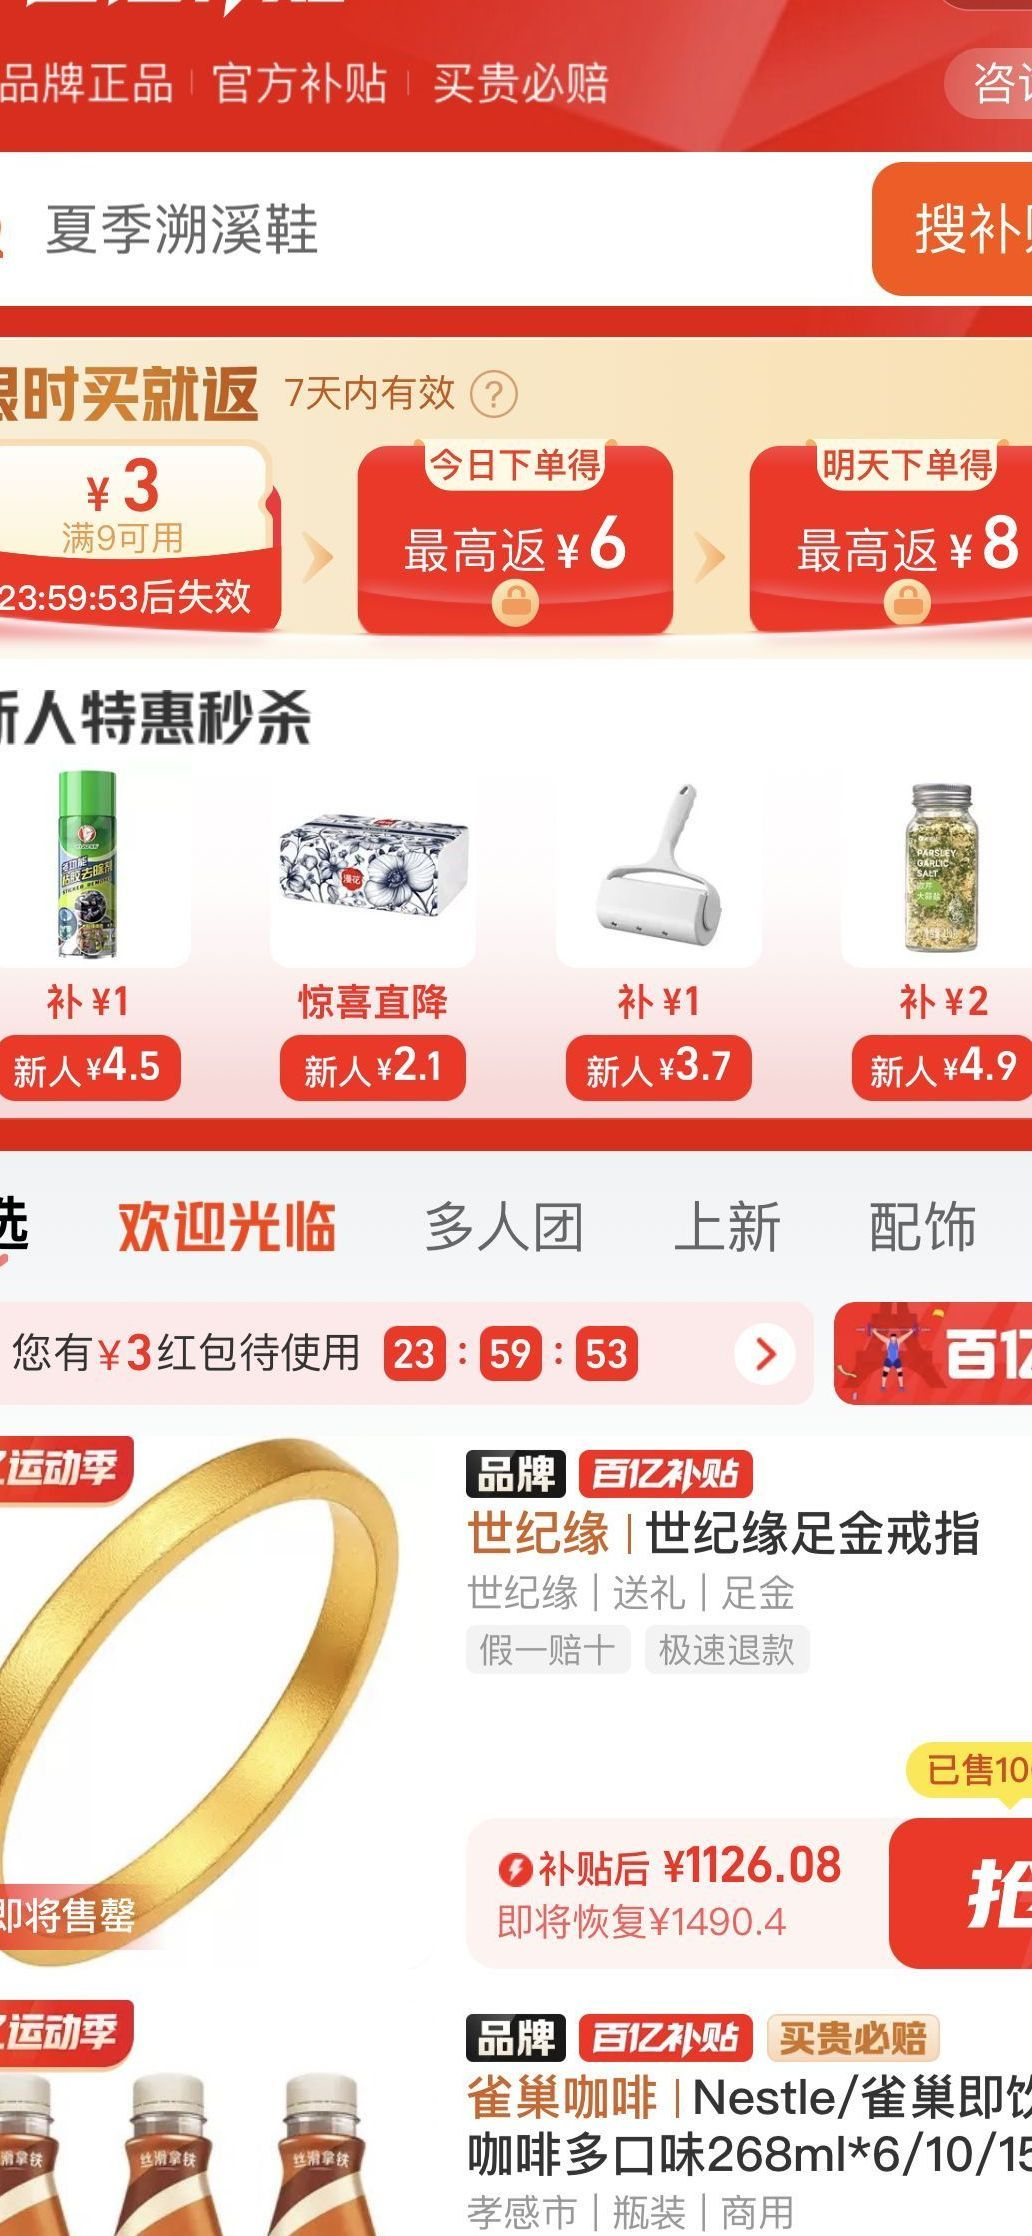item: (7, 1410, 1032, 1979)
seckill: (1, 328, 1032, 1118)
